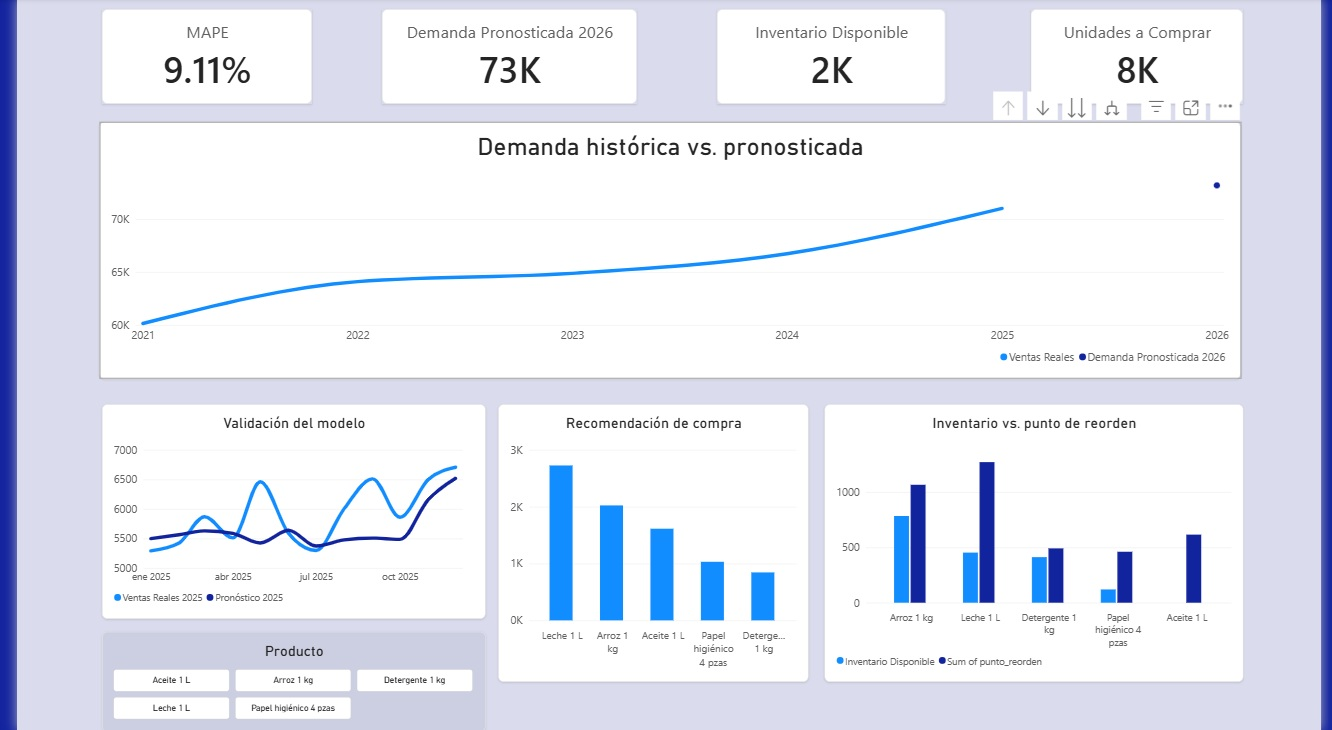

This screenshot's page, from the dashboard's own definition file:
{"tool":"powerbi","page":{"name":"Page 1","canvas":[1920,1080],"ordinal":0},"visuals":[{"type":"cardVisual","fields":{"Data":["pronosticos_2025.MAPE"]},"box":[125.2,16.6,309.2,139.9],"z":0},{"type":"cardVisual","fields":{"Data":["pronosticos_2026.Demanda Pronosticada 2026"]},"box":[537.4,16.6,375.5,139.9],"z":1000},{"type":"cardVisual","fields":{"Data":["plan_compras.Inventario Disponible"]},"box":[1030.7,16.6,336.8,139.9],"z":2000},{"type":"cardVisual","fields":{"Data":["plan_compras.Cantidad de Compra"]},"box":[1492.6,16.6,312.9,139.9],"z":3000},{"type":"lineChart","title":"Demanda histórica vs. pronosticada","fields":{"Category":["DimFecha.Date.Variation.Date Hierarchy.Year","DimFecha.Date.Variation.Date Hierarchy.Quarter","DimFecha.Date.Variation.Date Hierarchy.Month","DimFecha.Date.Variation.Date Hierarchy.Day"],"Y":["dataset_planeacion_demanda.Ventas Reales","pronosticos_2026.Demanda Pronosticada 2026"]},"box":[121.2,181.8,1680.4,379.1],"z":5000},{"type":"lineChart","title":"Validación del modelo","fields":{"Category":["pronosticos_2025.fecha"],"Y":["pronosticos_2025.Ventas Reales 2025","pronosticos_2025.Pronóstico 2025"]},"box":[125.5,597.3,564.8,316],"z":6000},{"type":"lineStackedColumnComboChart","title":"Recomendación de compra","fields":{"Category":["DimProducto.producto"],"Y":["plan_compras.Cantidad de Compra"]},"box":[707.7,597.3,456.6,409],"z":7000},{"type":"clusteredColumnChart","title":"Inventario vs. punto de reorden","fields":{"Category":["DimProducto.producto"],"Y":["plan_compras.Inventario Disponible","Sum(plan_compras.punto_reorden)"]},"box":[1188.1,597.3,616.8,409],"z":8000},{"type":"advancedSlicerVisual","title":"Producto","fields":{"Values":["plan_compras.producto"]},"box":[125.5,932.7,564.8,147.2],"z":9000}]}

Visuals, with their boxes on the page's 1920x1080 design canvas (x1, y1, x2, y2). These are canvas units, not pixel positions in the 1332x730 screenshot, which may show the page scaled, cropped or inside an application window:
cardVisual - pronosticos_2025.MAPE: box=[125, 17, 434, 156]
cardVisual - pronosticos_2026.Demanda Pronosticada 2026: box=[537, 17, 913, 156]
cardVisual - plan_compras.Inventario Disponible: box=[1031, 17, 1368, 156]
cardVisual - plan_compras.Cantidad de Compra: box=[1493, 17, 1806, 156]
"Demanda histórica vs. pronosticada" lineChart: box=[121, 182, 1802, 561]
"Validación del modelo" lineChart: box=[126, 597, 690, 913]
"Recomendación de compra" lineStackedColumnComboChart: box=[708, 597, 1164, 1006]
"Inventario vs. punto de reorden" clusteredColumnChart: box=[1188, 597, 1805, 1006]
"Producto" advancedSlicerVisual: box=[126, 933, 690, 1080]
